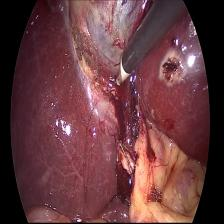Hook: (111, 51, 129, 92)
